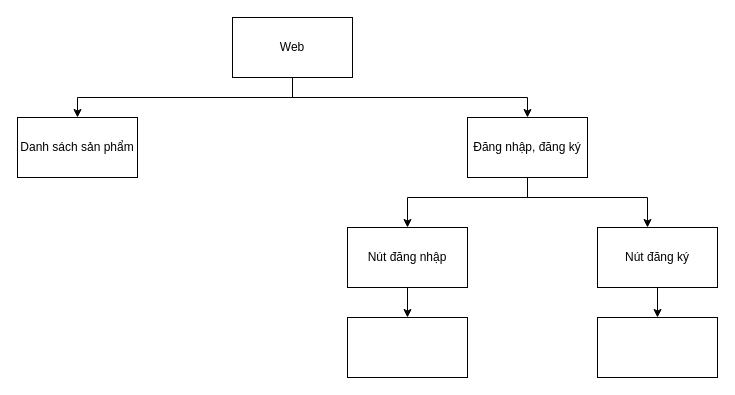
Some shapes in this 735 by 395 pixel diagram are drawn without their labels. The shapes that lost their labels are listed below. From the top down, each one's centre as x and y in pixels, then its label:
At point 407,347: "Đăng nhập tài khoản người dùng".
At point 657,347: "Đăng ký tài khoản người dùng".
